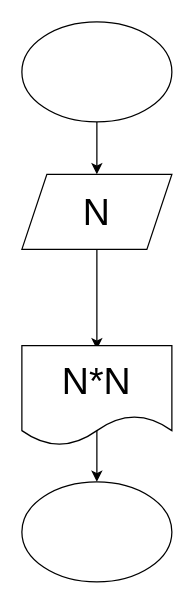
The diagram is 194 pixels wide and 604 high, and some of its shapes have lost their labels. Here are the shapes that lost their labels. From the top down, the centre of each, then its label:
point (96, 71): Start
point (96, 531): END
